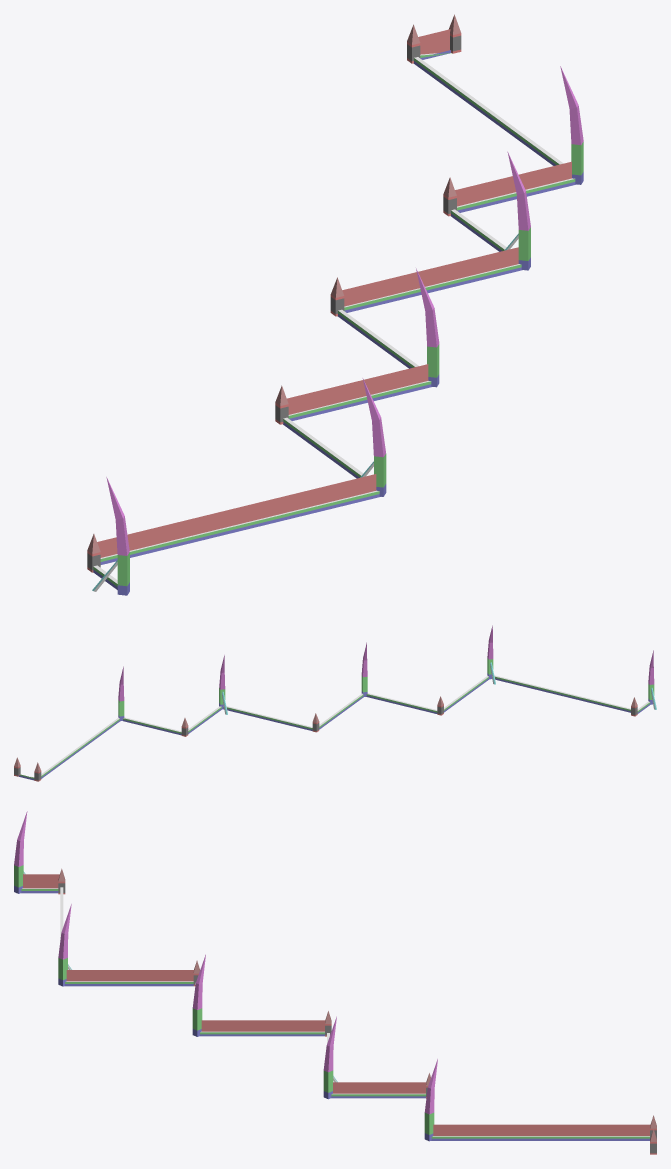
File: O_DE_fence01.gltf
The picture shows the model from 3 angles, top to bottom: view 1: azimuth 30°, elevation 25°; view 2: azimuth 150°, elevation 25°; view 3: azimuth 270°, elevation 25°; orthographic projection. The views are drawn at different scales.
Parts seen in each view (by area): view 1: O_DE_fence01; view 2: O_DE_fence01; view 3: O_DE_fence01.
Part boxes in pixels (x1,y1,x2,y2): O_DE_fence01: [87, 14, 583, 595]; O_DE_fence01: [14, 625, 656, 781]; O_DE_fence01: [14, 811, 656, 1154].
Size of the model in its own units: 22.77 by 3.17 by 22.7.
